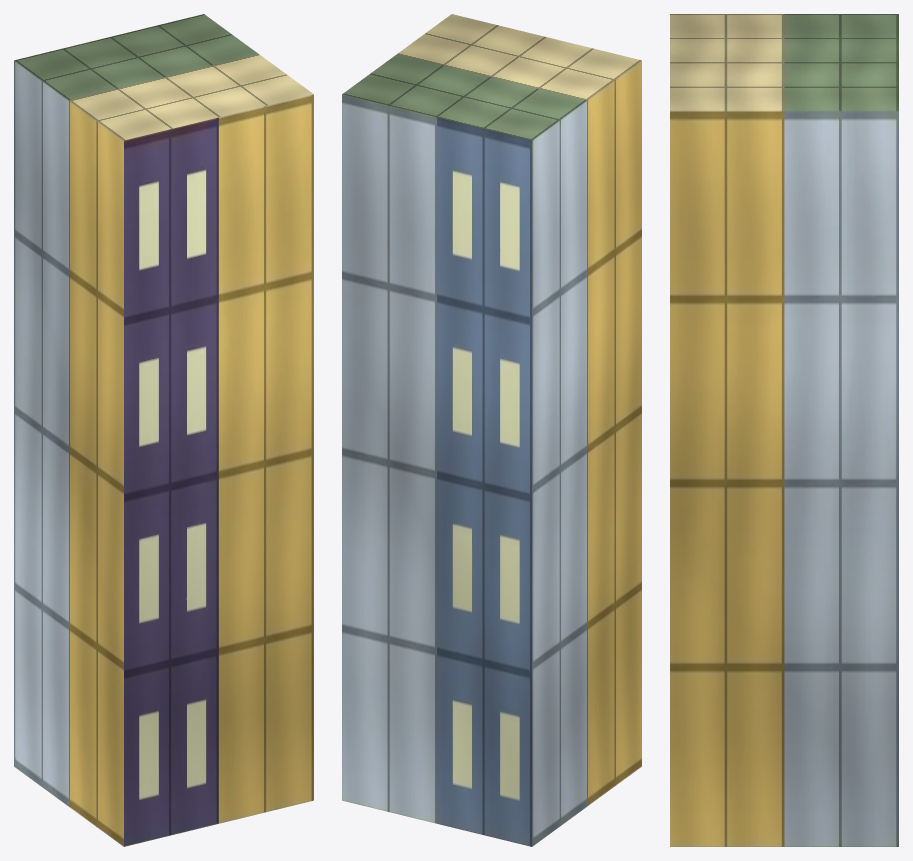
Rendered from building_d.glb.
3 renders of one model, left to right at view 1: azimuth 30°, elevation 25°; view 2: azimuth 150°, elevation 25°; view 3: azimuth 270°, elevation 25°, orthographic. The views are drawn at different scales.
Parts seen in each view (by area): view 1: col; view 2: col; view 3: col.
Part boxes in pixels (<box>): col: <box>14,14,313,846</box>; col: <box>342,14,641,846</box>; col: <box>670,14,898,846</box>.
Size of what is drawn, in the model's own units: 4.19 by 14.9 by 4.19.
Materials: 1 (1 with a texture image).
